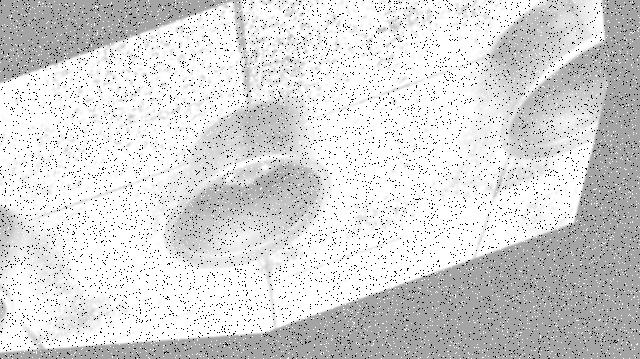pot: (163, 99, 333, 268), (487, 0, 608, 158), (0, 203, 25, 334)
